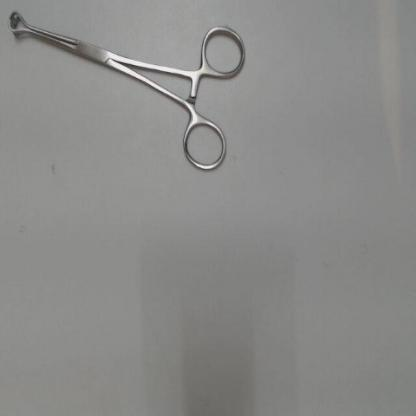Babcock Tissue Forceps: (4, 9, 248, 174)
